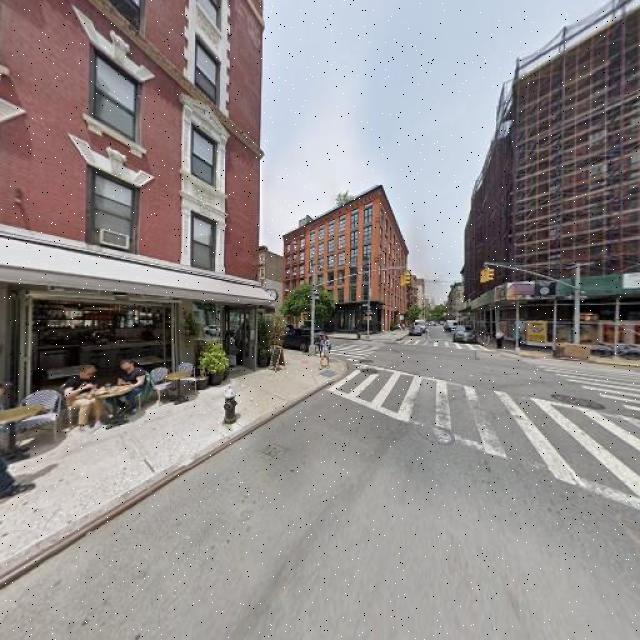Building: (1, 1, 259, 433), (469, 4, 640, 355), (284, 184, 408, 338)
